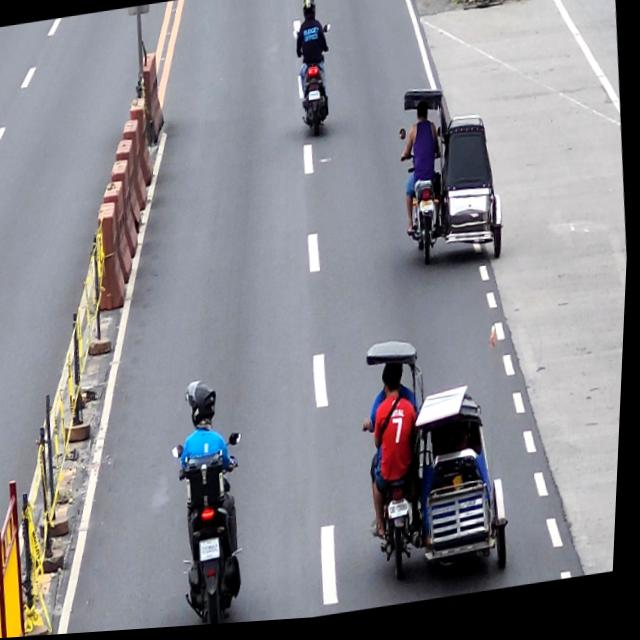License-Plate: (390, 502, 414, 526), (203, 541, 226, 566), (307, 92, 322, 104)
Motorcycle: (167, 431, 261, 630), (290, 21, 339, 142)
Tricycle: (356, 327, 527, 596), (392, 80, 515, 283)
